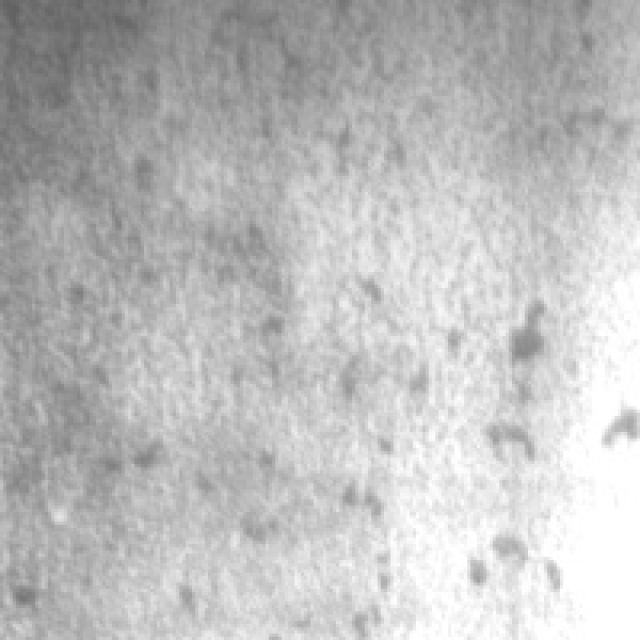pitted_surface: (6, 61, 442, 634), (269, 9, 640, 602)
